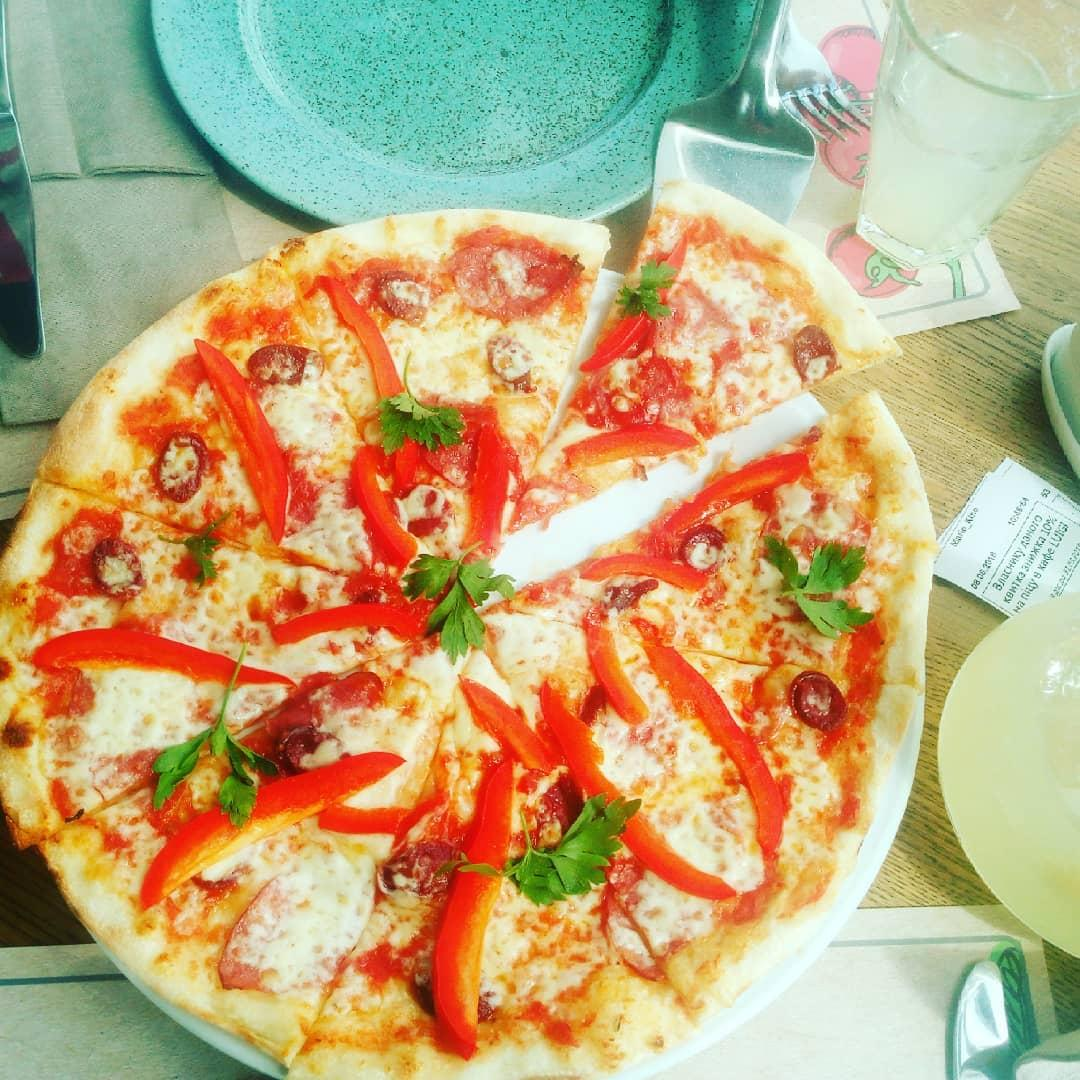Basil: (161, 661, 264, 808), (513, 799, 629, 910), (409, 543, 516, 654), (767, 533, 870, 636), (377, 369, 462, 460), (615, 265, 669, 318)
Ham: (131, 673, 384, 828), (437, 225, 578, 314), (665, 281, 764, 372)
Pepperoni: (375, 829, 449, 893), (87, 537, 144, 604), (153, 437, 205, 506), (397, 951, 446, 1015), (791, 671, 846, 728), (785, 321, 834, 374), (677, 525, 733, 569), (383, 261, 429, 312), (405, 481, 453, 526), (281, 729, 325, 778), (241, 349, 305, 382), (489, 337, 533, 382)
Peppers: (133, 755, 405, 904), (641, 625, 786, 886), (428, 756, 510, 1054), (317, 277, 428, 472), (193, 339, 304, 530), (25, 623, 281, 705), (608, 783, 744, 910), (661, 461, 805, 537), (455, 681, 558, 781), (339, 449, 416, 577), (269, 589, 436, 646), (537, 681, 609, 802), (581, 617, 648, 728), (469, 407, 509, 576), (579, 547, 714, 597), (561, 419, 702, 466), (585, 305, 654, 378)
Pizza: (0, 215, 922, 1080)
